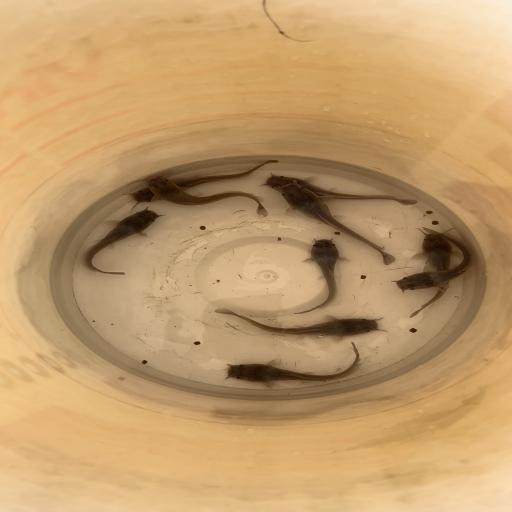lele: (276, 182, 396, 266), (122, 159, 280, 203), (223, 342, 363, 388), (391, 227, 475, 294), (143, 172, 270, 216), (80, 209, 160, 276), (211, 307, 388, 337), (262, 174, 419, 206), (290, 238, 350, 316), (408, 230, 453, 319)
